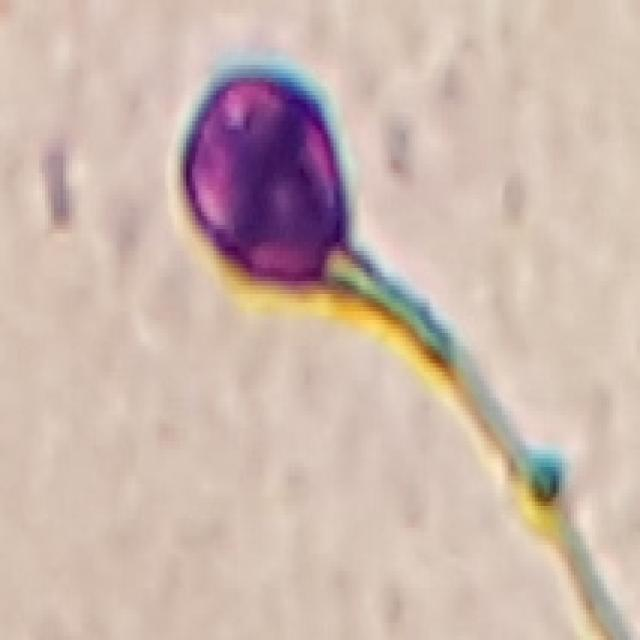normal sperm: (174, 66, 443, 352)
